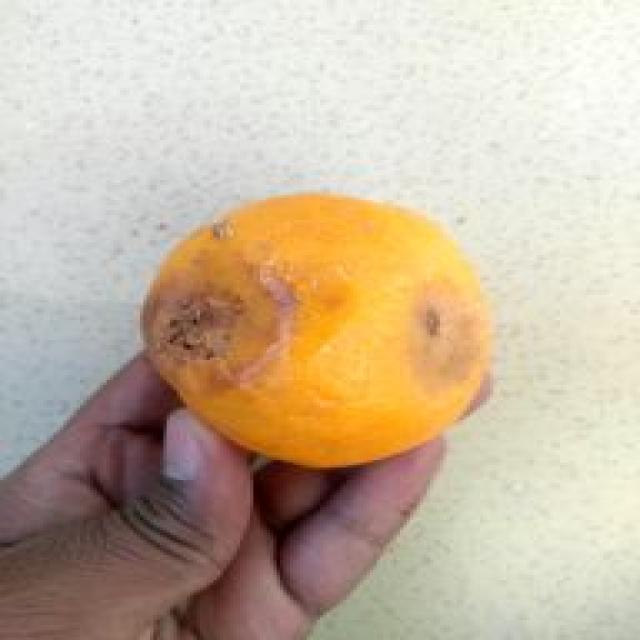Bad_Orange: (143, 195, 490, 467)
